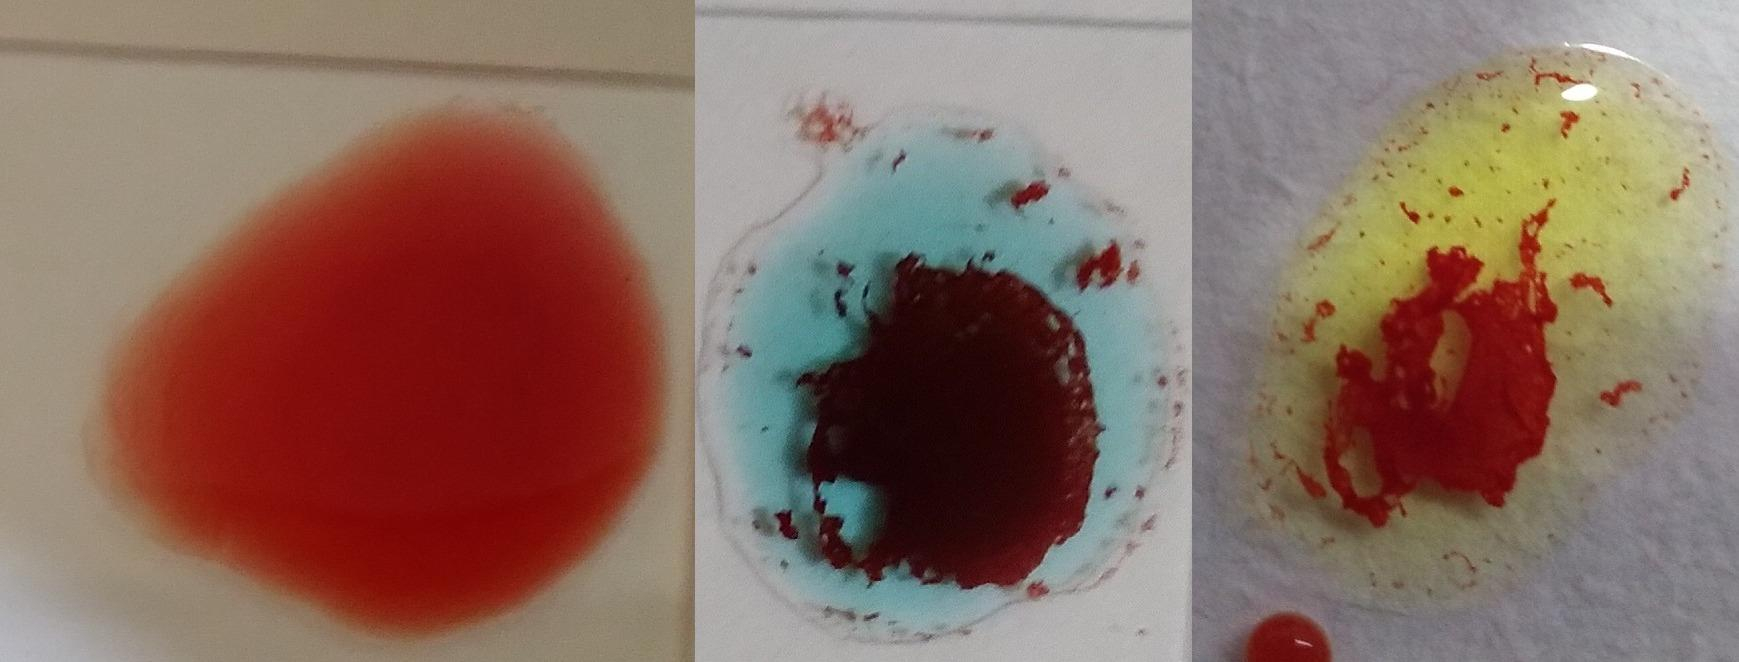A: (702, 96, 1173, 650)
B: (1243, 53, 1700, 597)
